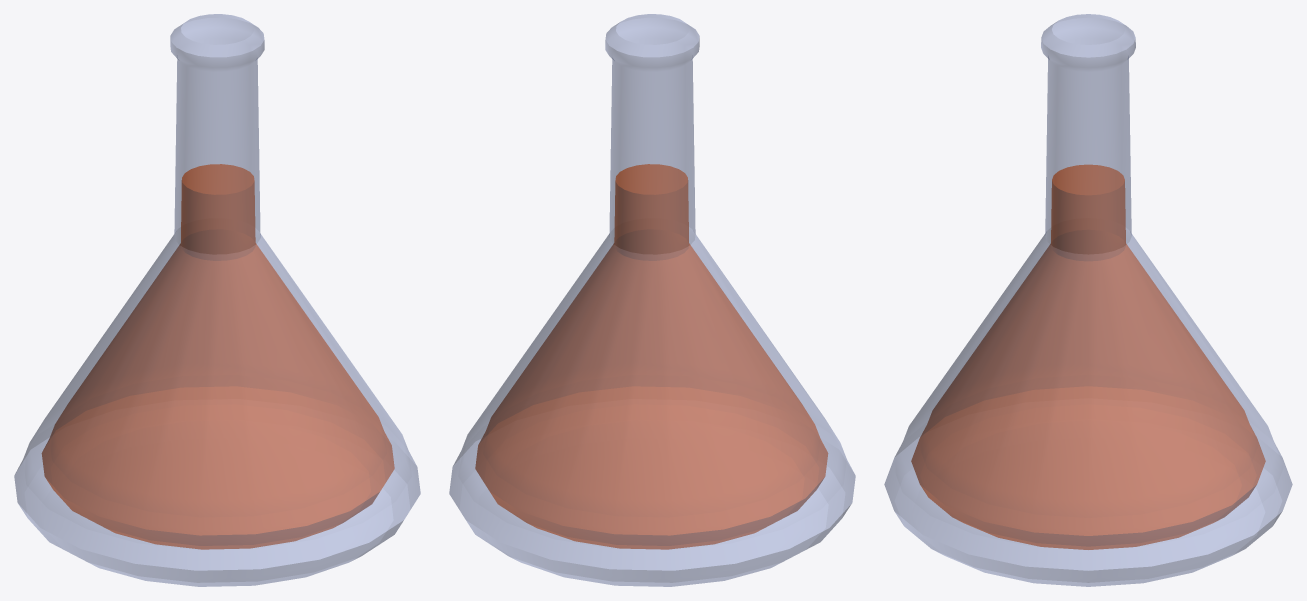
Rendered from フラスコビーカー 1.fbx.
3 views of the same model, side by side, from view 1: azimuth 30°, elevation 25°; view 2: azimuth 150°, elevation 25°; view 3: azimuth 270°, elevation 25° (orthographic).
Parts seen in each view (by area): view 1: pCone1, pasted__pCone1; view 2: pCone1, pasted__pCone1; view 3: pCone1, pasted__pCone1.
Boxes of the visible parts, x1,y1,x2,y2 form: pCone1: (14,14,420,586); pasted__pCone1: (41,164,394,549); pCone1: (449,14,855,586); pasted__pCone1: (475,164,828,549); pCone1: (884,14,1292,586); pasted__pCone1: (911,164,1265,549).
Size of the model in its own units: 1.76 by 2.31 by 1.76.
